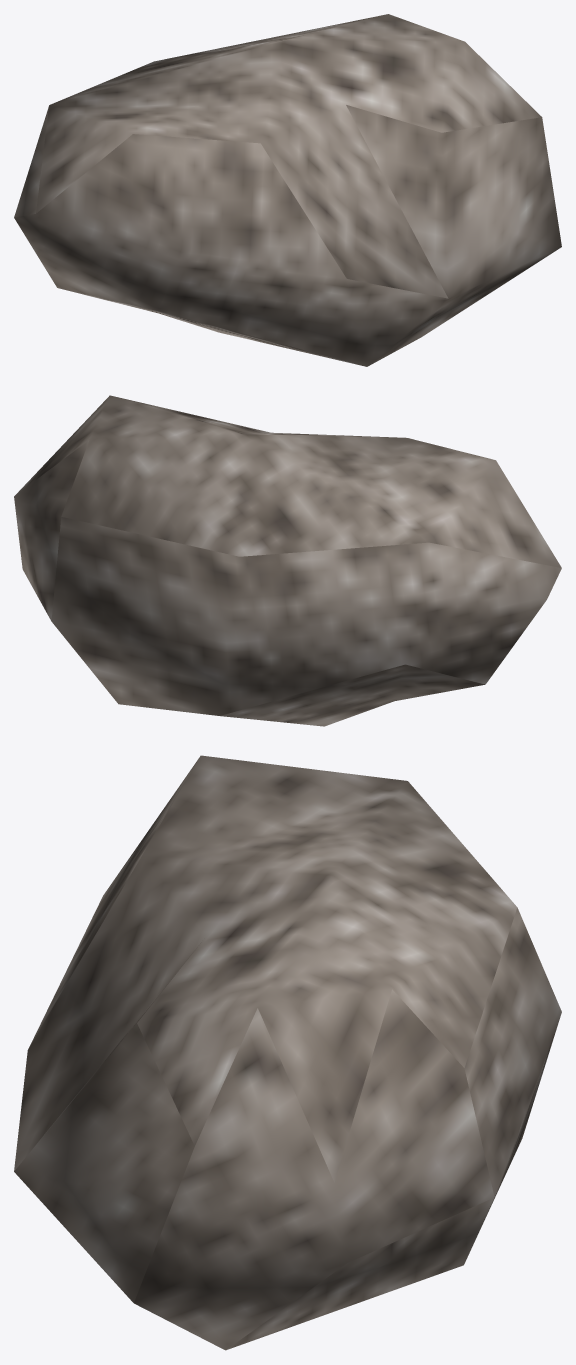
File: mboulderreg_1.obj
3 views of the same model, one above another, from view 1: azimuth 30°, elevation 25°; view 2: azimuth 150°, elevation 25°; view 3: azimuth 270°, elevation 25° (orthographic). The views are drawn at different scales.
Parts seen in each view (by area): view 1: mboulderreg_1; view 2: mboulderreg_1; view 3: mboulderreg_1.
Part boxes in pixels (<box>): mboulderreg_1: <box>14,14,561,366</box>; mboulderreg_1: <box>14,395,561,726</box>; mboulderreg_1: <box>14,755,561,1350</box>.
Bounding box in the file's own units: 2.2 × 1.13 × 1.49.
